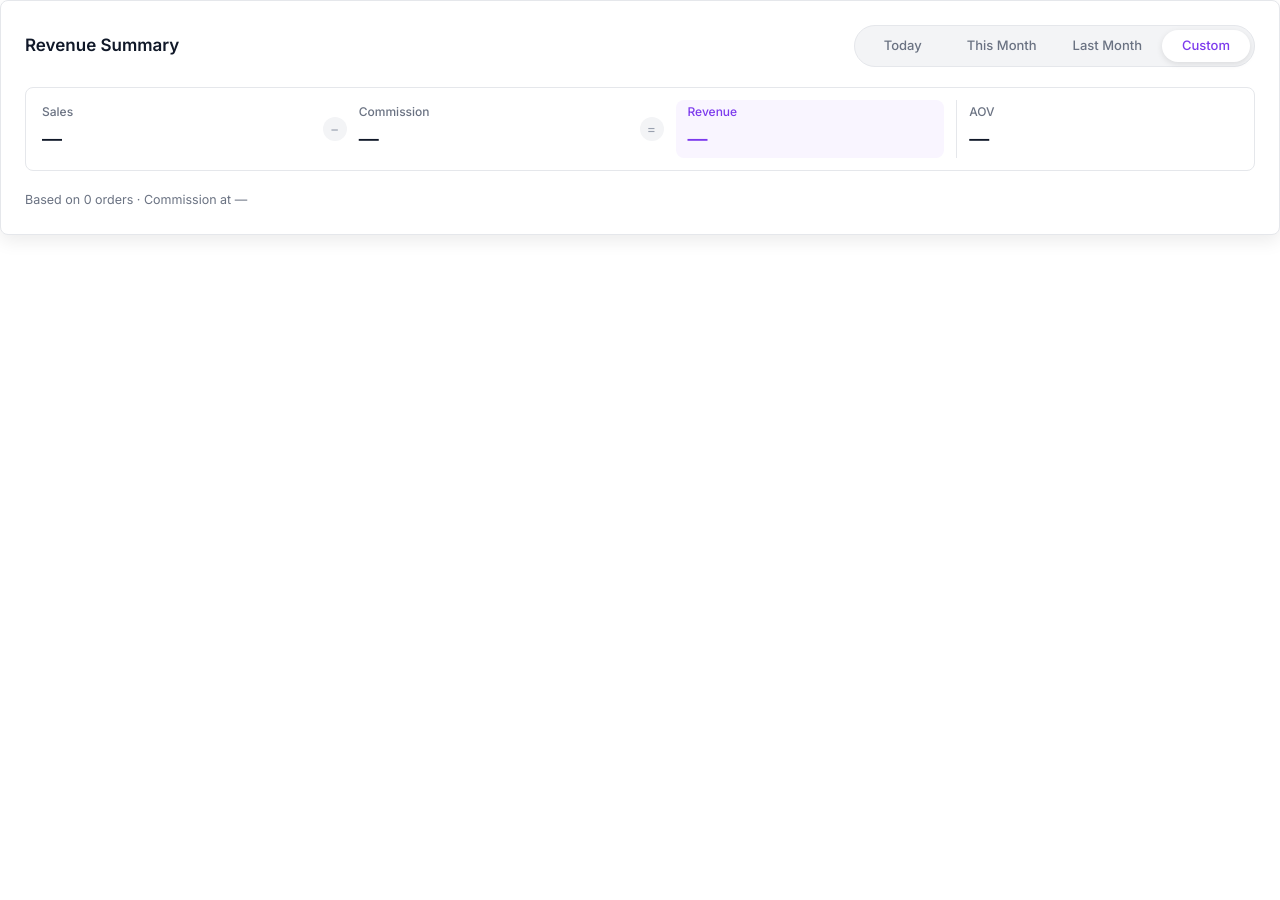
Test: RevenueSummaryGroup › keeps the card and the pending placeholders while showing the server range error
Check: the heading "Revenue Summary" is shown, box x1=25 y1=33 x2=179 y2=59
Check: the element named "Period" is shown, box x1=854 y1=25 x2=1255 y2=67
Click the button "Custom": (1206, 46) x1=1162 y1=30 x2=1250 y2=62
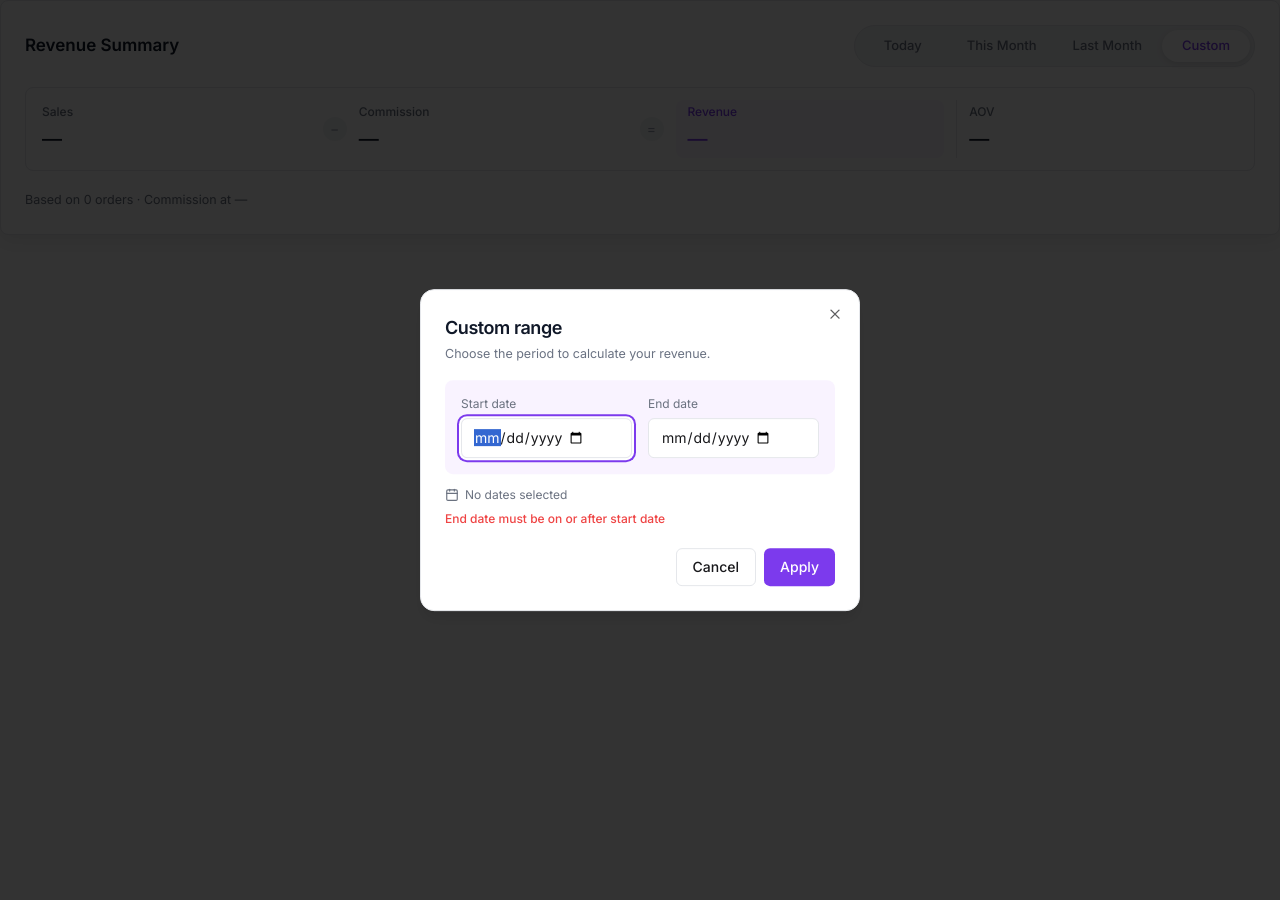
Check: the message reads "End date must be on or after start date", box x1=445 y1=511 x2=665 y2=526
